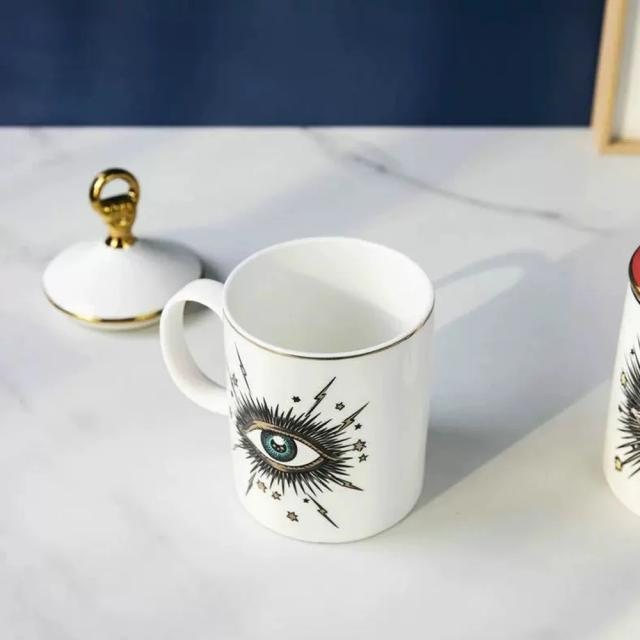taza: (153, 228, 447, 564)
